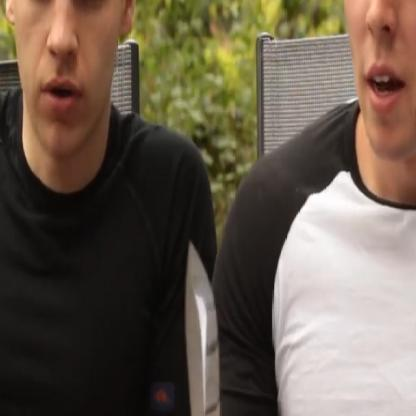knife: (156, 225, 260, 415)
